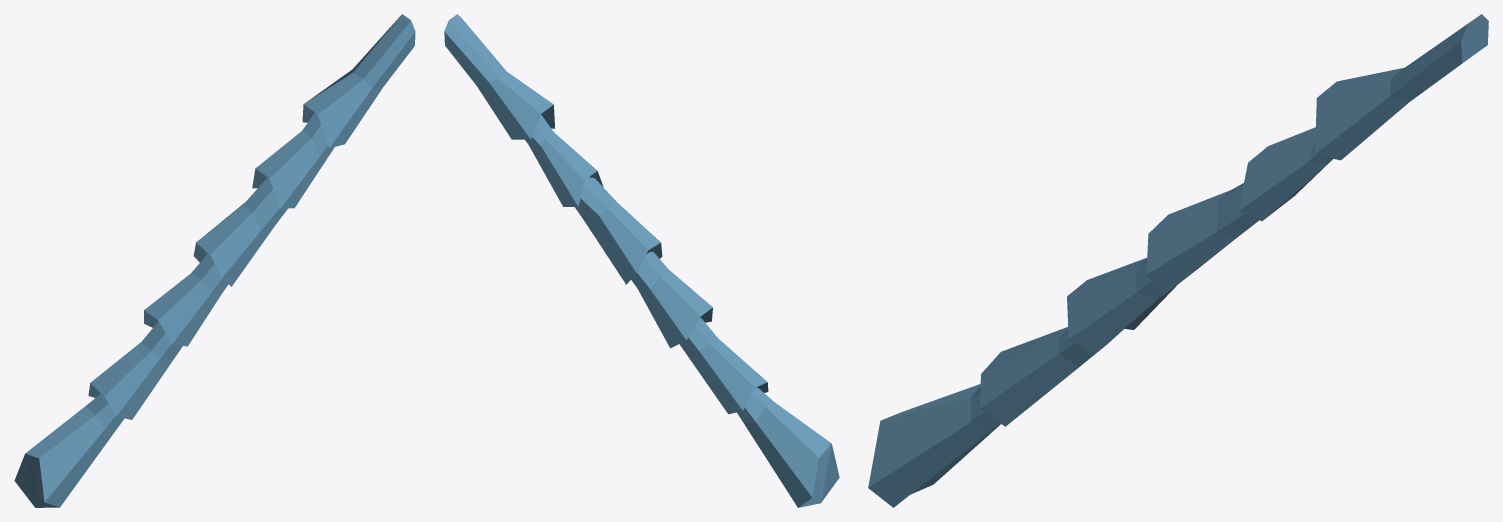
File: ROOF_tile_side_1.fbx
The picture shows the model from 3 angles, left to right: view 1: azimuth 30°, elevation 25°; view 2: azimuth 150°, elevation 25°; view 3: azimuth 330°, elevation 25°; orthographic projection. The views are drawn at different scales.
Parts seen in each view (by area): view 1: ROOF_tile_side_1; view 2: ROOF_tile_side_1; view 3: ROOF_tile_side_1.
Boxes of the visible parts, x1,y1,x2,y2 form: ROOF_tile_side_1: (14, 14, 415, 507); ROOF_tile_side_1: (444, 14, 839, 507); ROOF_tile_side_1: (868, 14, 1488, 507).
Size of the model in its own units: 161 by 163 by 21.35.
